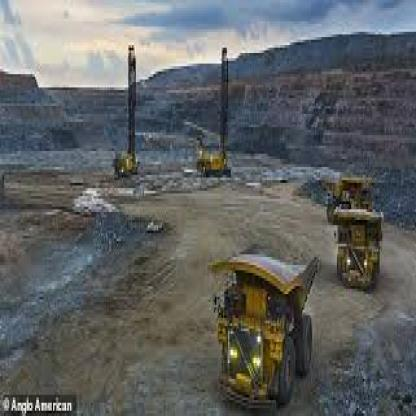dump_truck: (206, 220, 319, 405), (322, 199, 388, 299)
